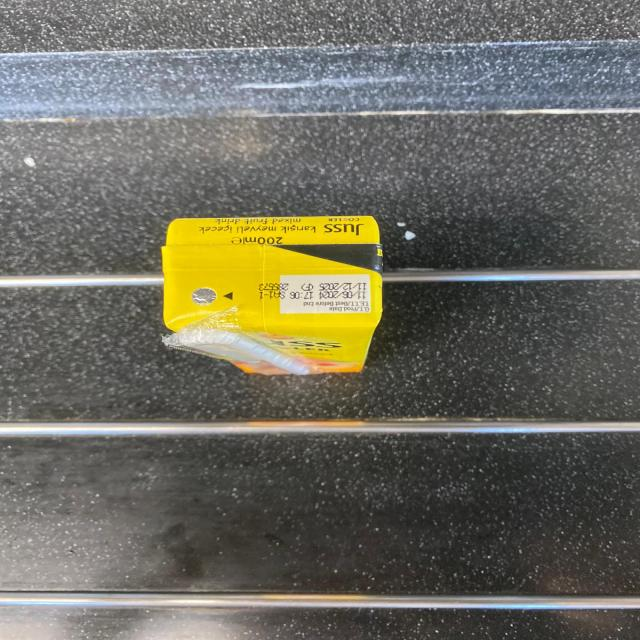yan_yemek: (159, 214, 384, 376)
